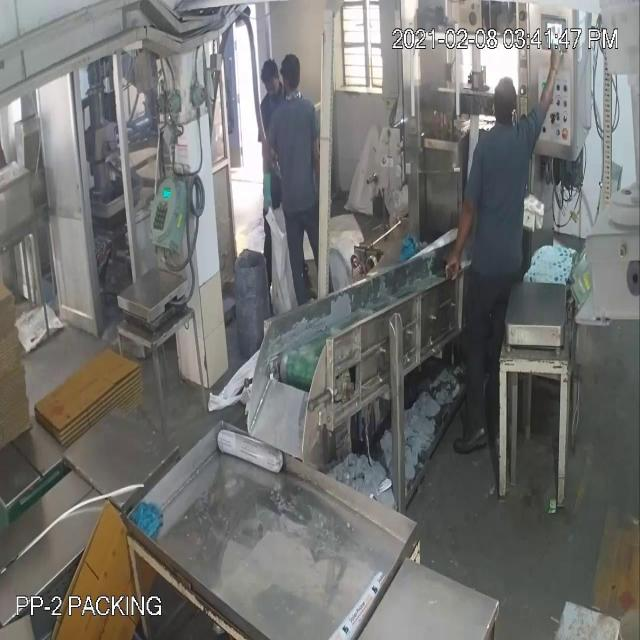No_Gloves: (32, 82, 552, 237)
